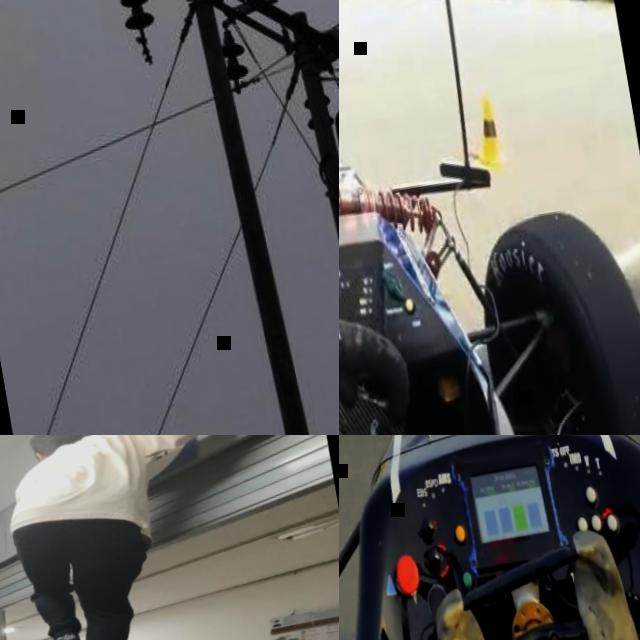NO-Hardhat: (28, 435, 91, 453)
NO-Safety Vest: (5, 435, 148, 538)
Person: (0, 435, 297, 640), (427, 524, 640, 640), (305, 0, 339, 214)
Safety Cone: (468, 96, 511, 161)
vehicle: (339, 0, 640, 435), (339, 435, 640, 640)
